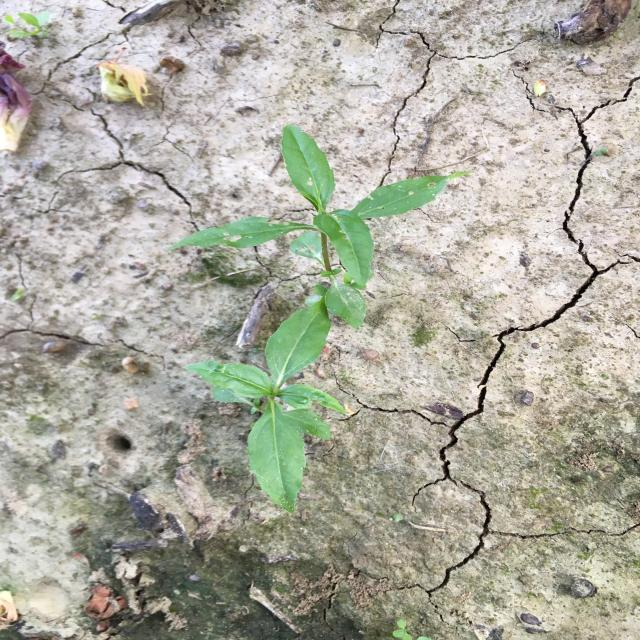Eclipta: (167, 124, 475, 330), (182, 295, 349, 516)
